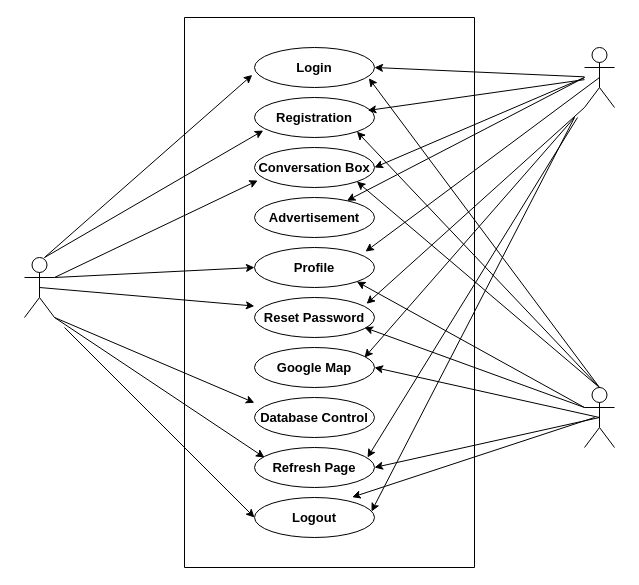
This 639x585 diagram has some shape labels left out. The shapes that lost their labels are listed below. From the top down, each one's centre as x and y in pixels, then its label:
At (x=599, y=77): "Owner".
At (x=39, y=287): "Admin".
At (x=599, y=417): "Tenant".
